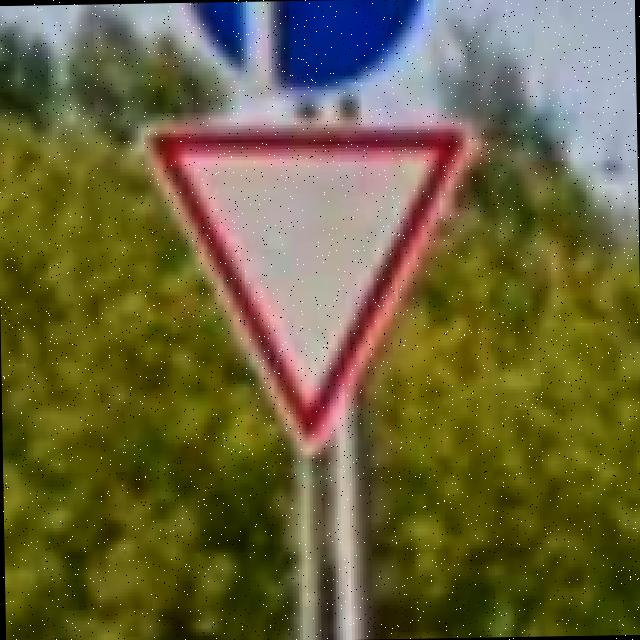Ustap pierwszenstwa: (138, 114, 484, 460)
